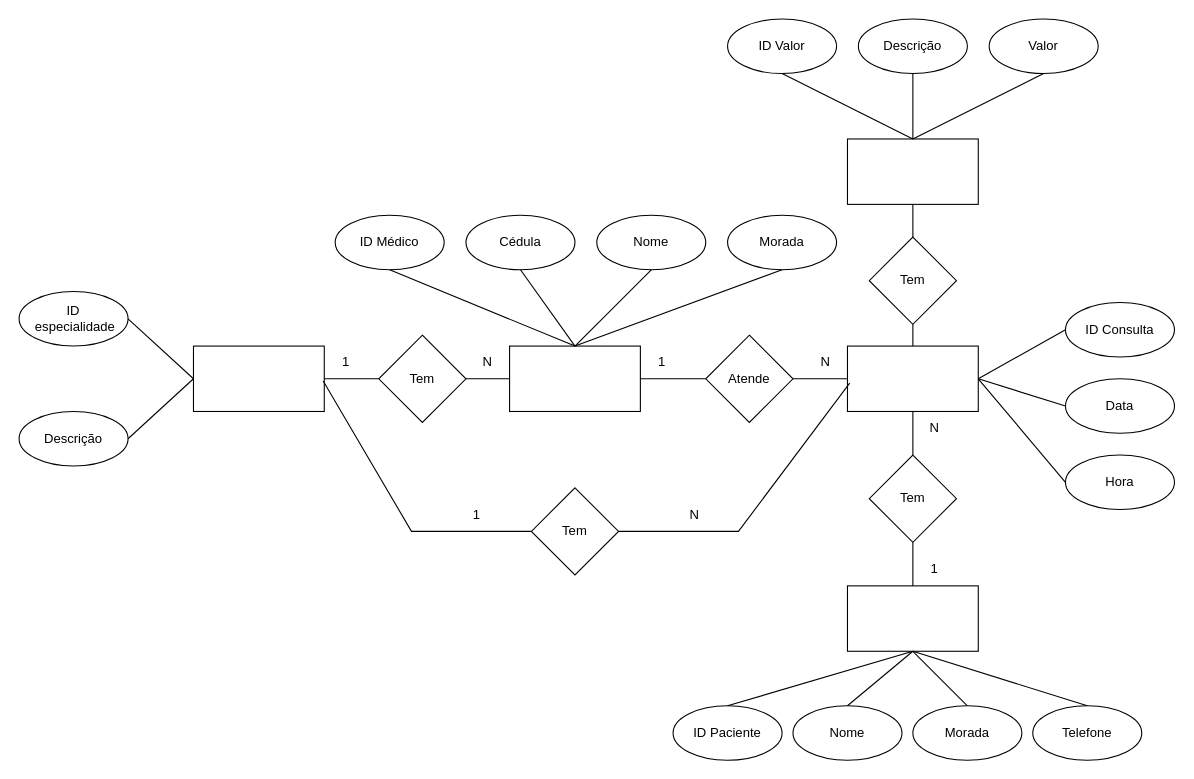
This 1194x779 diagram has some shape labels left out. The centre of each missing label's shape, as x and y in pixels:
"Consulta" goes at point 912,378.
"Especialidade" goes at point 258,378.
"Médico" goes at point 574,378.
"Paciente" goes at point 912,618.
"Tipo de valor" goes at point 912,171.
